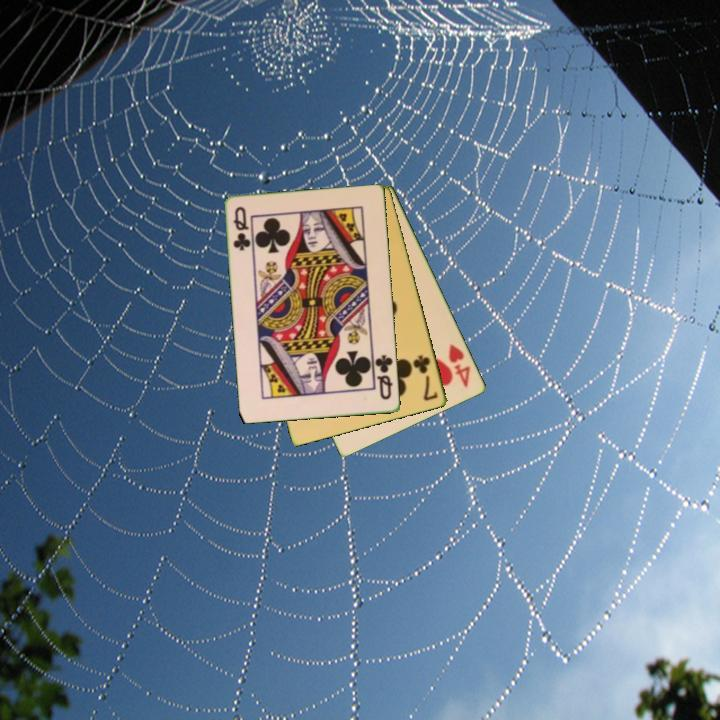4h: (445, 341, 473, 390)
7c: (410, 351, 441, 404)
Qc: (372, 352, 396, 403), (230, 203, 253, 254)
